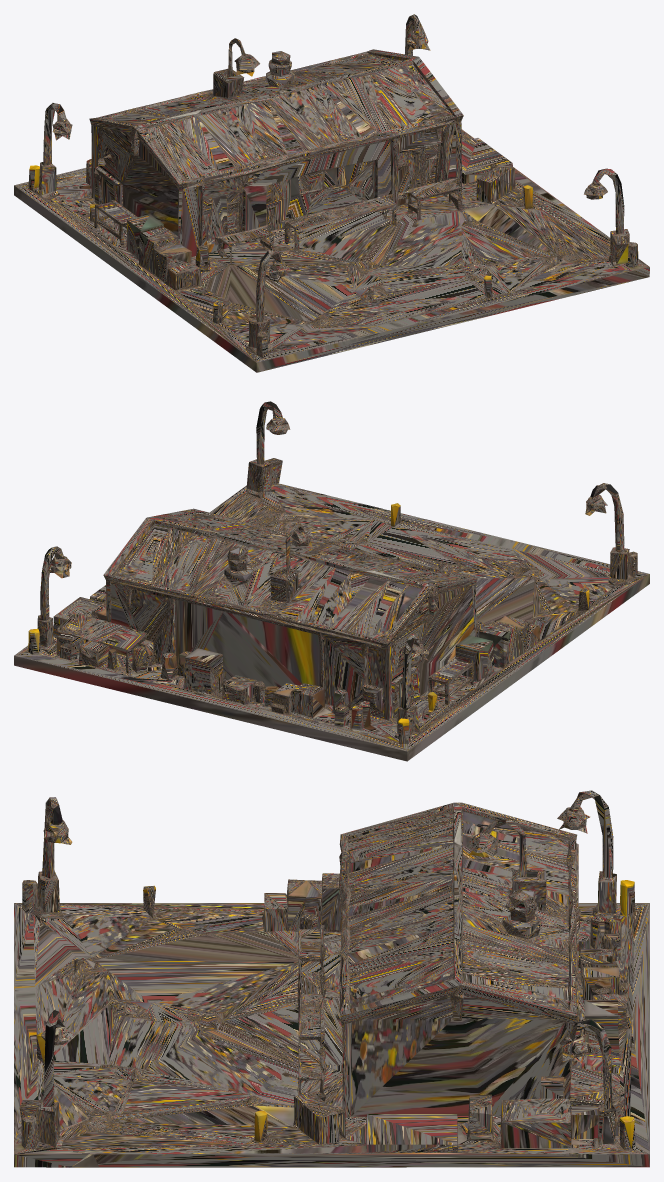
Rendered from truck_depot_bottom_entrance_nw.glb.
3 renders of one model, top to bottom at view 1: azimuth 30°, elevation 25°; view 2: azimuth 150°, elevation 25°; view 3: azimuth 270°, elevation 25°, orthographic. The views are drawn at different scales.
Parts seen in each view (by area): view 1: normalize; view 2: normalize; view 3: normalize.
Boxes of the visible parts, x1,y1,x2,y2 form: normalize: (14,14,649,372); normalize: (14,401,649,761); normalize: (14,790,649,1167).
Bounding box in the file's own units: 0.9358 × 0.3545 × 1.
1 material, 1 textured.
